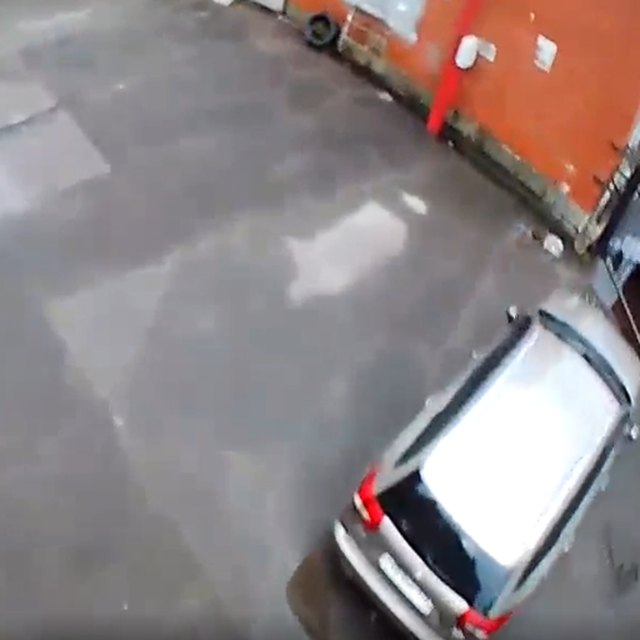car: (334, 289, 640, 640)
